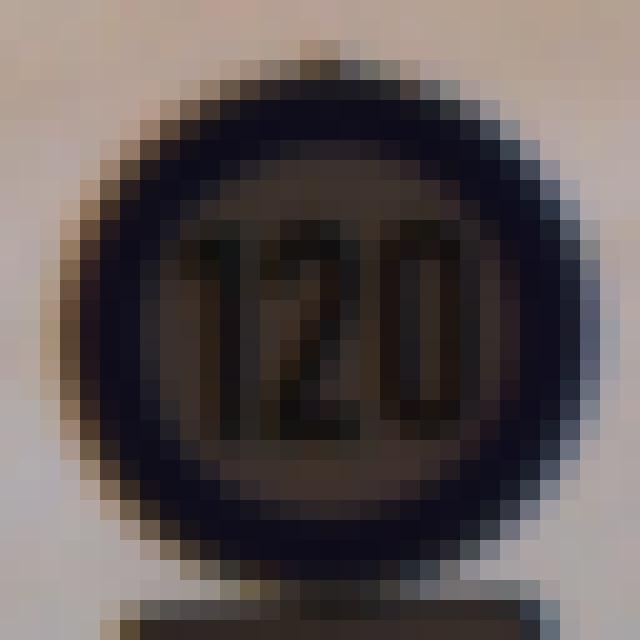SPEED LIMIT 120: (53, 65, 597, 575)
